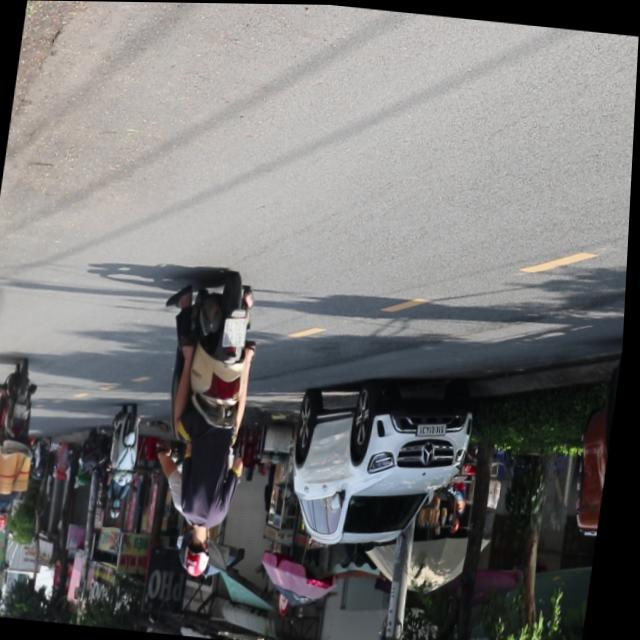helmet: (185, 525, 220, 579)
licenseplate: (141, 266, 274, 583)
nohelmet: (226, 316, 251, 348)
